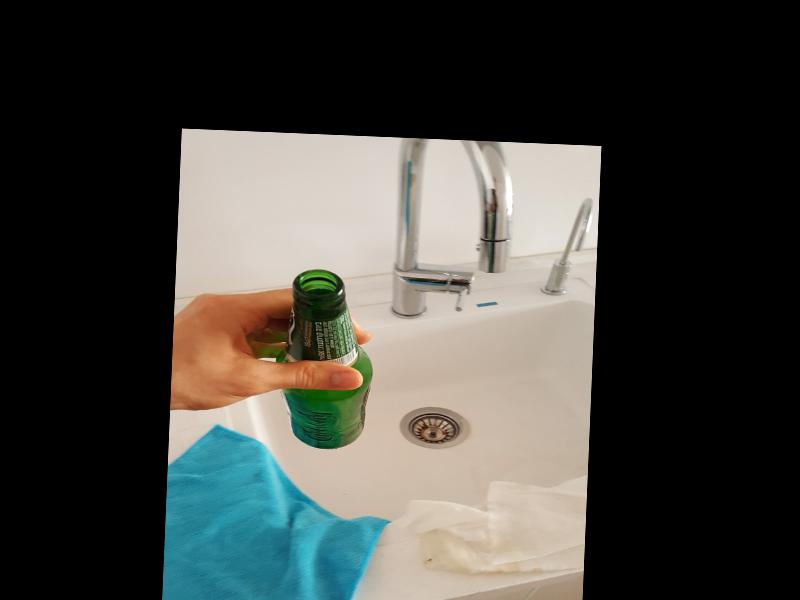Beer: (274, 268, 378, 452)
